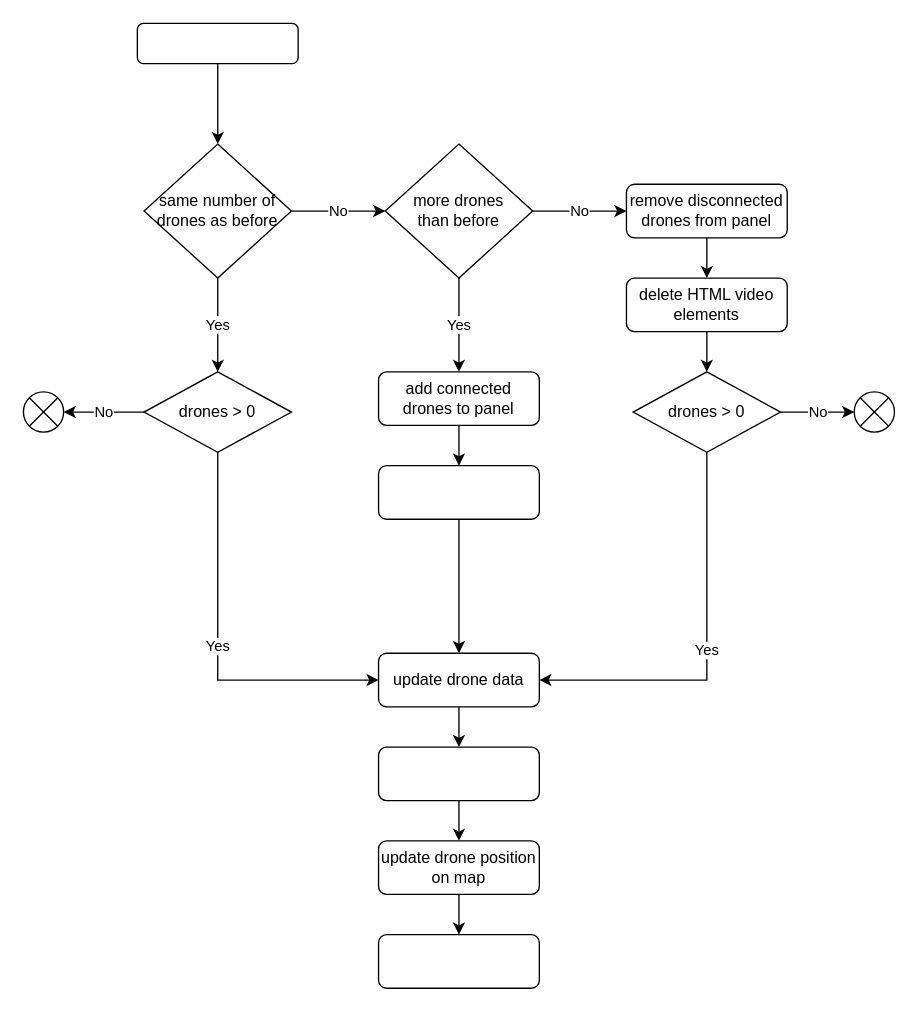
Image size: 918x1012. Some labels were removed from this diagram. Each missing label, with the centre of its shape:
"create HTML video elements" belongs at point (458, 491).
"update drone stream and detection frames" belongs at point (458, 960).
"update UI (if needed)" belongs at point (458, 773).
"WS data received" belongs at point (217, 43).
